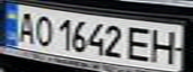1: (51, 16, 72, 52)
2: (103, 21, 127, 60)
4: (87, 20, 106, 56)
6: (69, 19, 90, 54)
A: (12, 9, 39, 44)
E: (124, 25, 157, 63)
H: (145, 26, 187, 65)
O: (30, 12, 57, 47)
